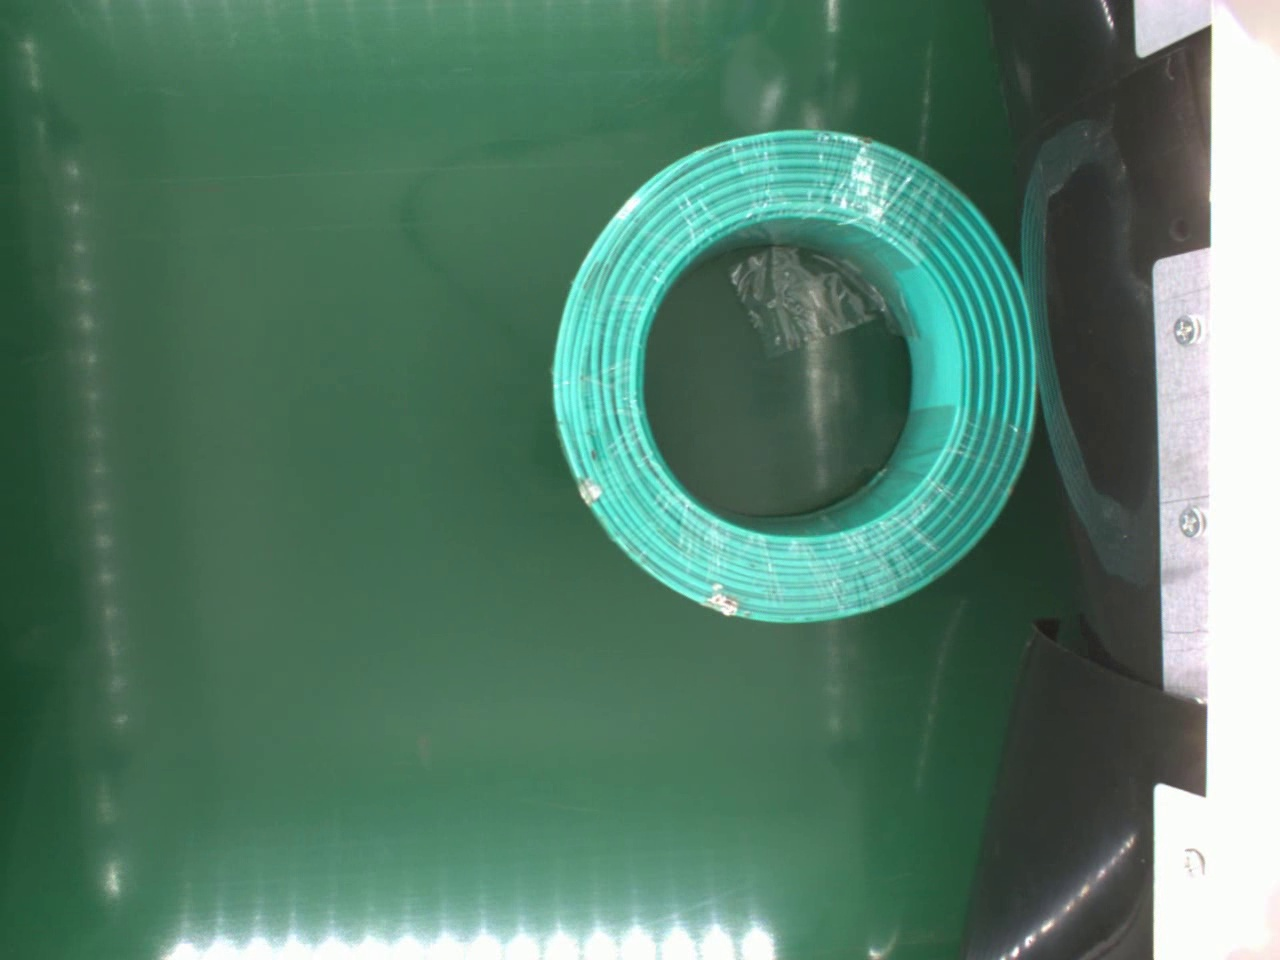green: (544, 123, 1039, 629)
